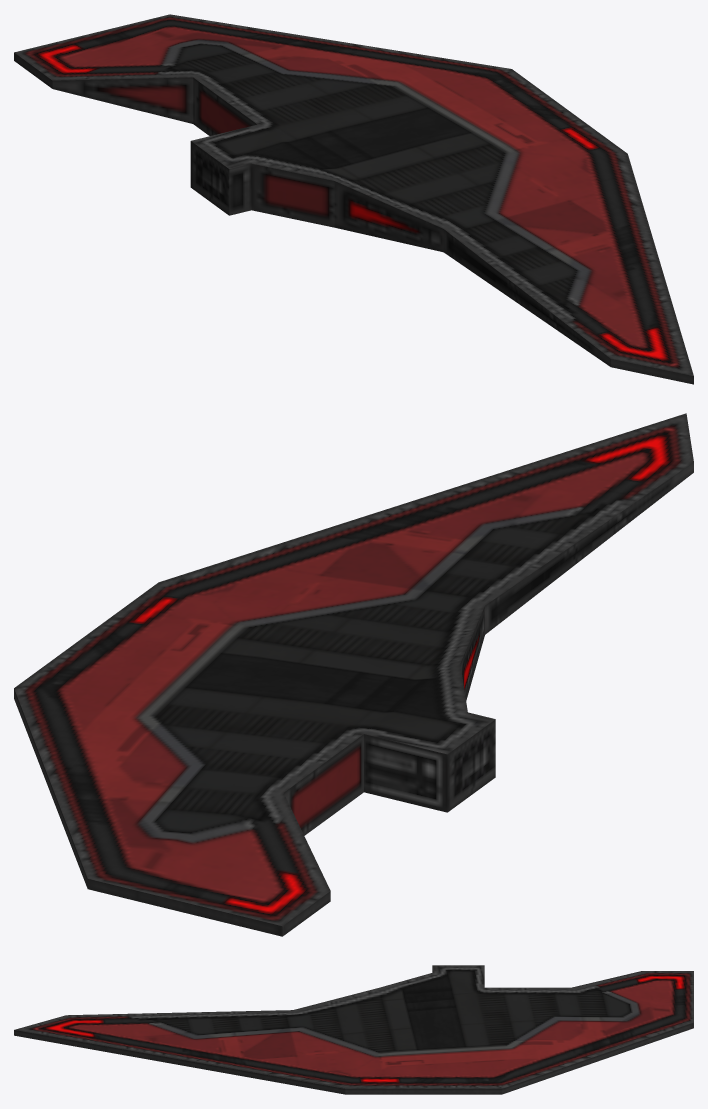
Rendered from BFP_LargeWingNum_02_Left.FBX.
3 renders of one model, top to bottom at view 1: azimuth 30°, elevation 25°; view 2: azimuth 150°, elevation 25°; view 3: azimuth 270°, elevation 25°, orthographic. The views are drawn at different scales.
Parts seen in each view (by area): view 1: BFP_LargeWingNum_02_Left; view 2: BFP_LargeWingNum_02_Left; view 3: BFP_LargeWingNum_02_Left.
Part boxes in pixels (x1,y1,x2,y2): BFP_LargeWingNum_02_Left: (14, 14, 693, 384); BFP_LargeWingNum_02_Left: (14, 413, 693, 936); BFP_LargeWingNum_02_Left: (14, 965, 693, 1094).
Bounding box in the file's own units: 296 × 36.98 × 721.
1 material, 1 textured.
